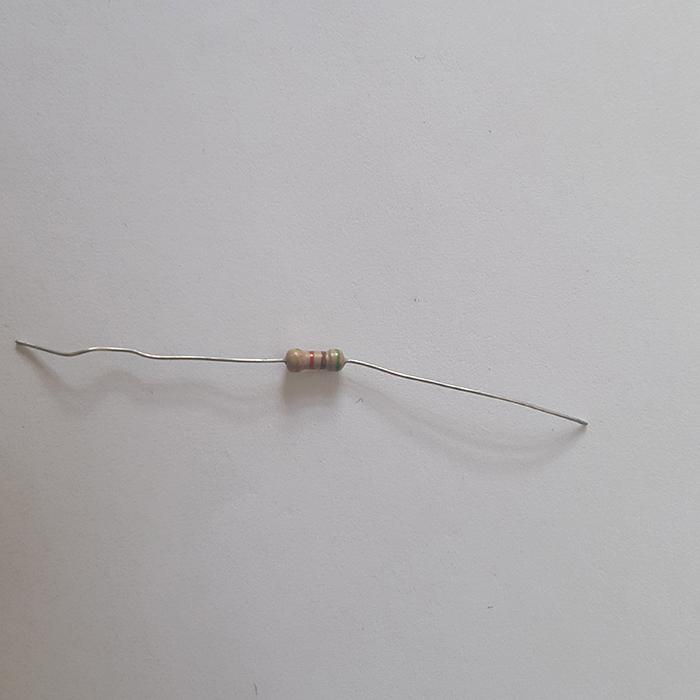resistor: (283, 347, 344, 372)
